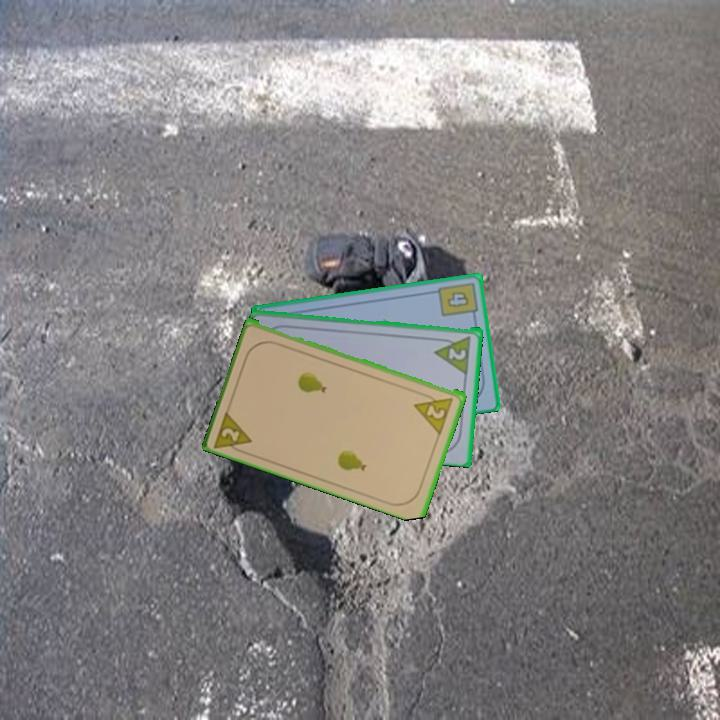2p: (211, 405, 256, 457), (411, 390, 456, 436), (445, 343, 469, 363)
4b: (435, 278, 480, 322)
